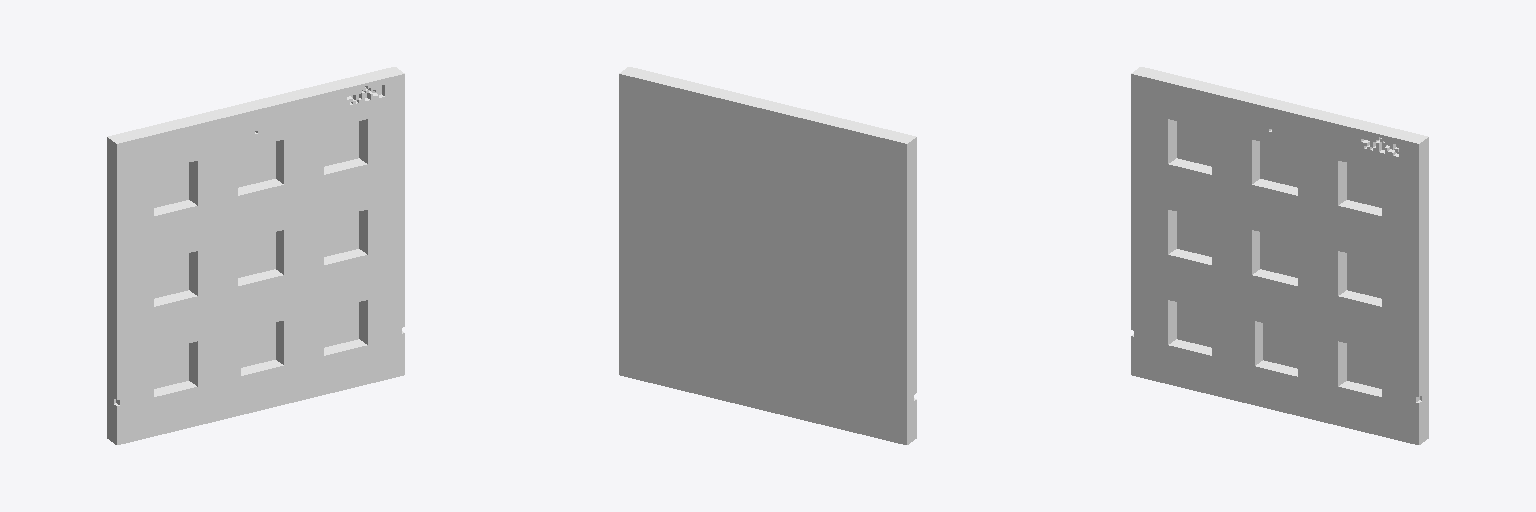
File: basement_wall_holes.obj
The picture shows the model from 3 angles: view 1: azimuth 30°, elevation 25°; view 2: azimuth 150°, elevation 25°; view 3: azimuth 330°, elevation 25°; orthographic projection.
Size of the model in its own units: 100 by 100 by 6.